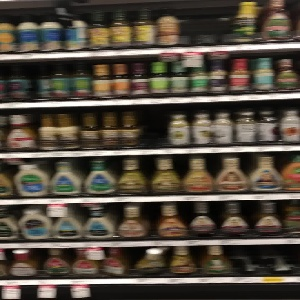void: (231, 245, 300, 277), (179, 4, 229, 48), (138, 107, 169, 150)
